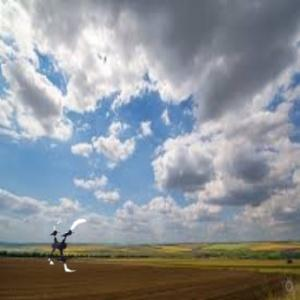drone: (38, 220, 94, 276)
